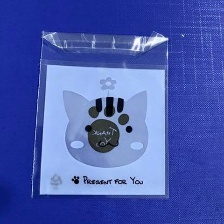snack: (19, 22, 179, 206)
